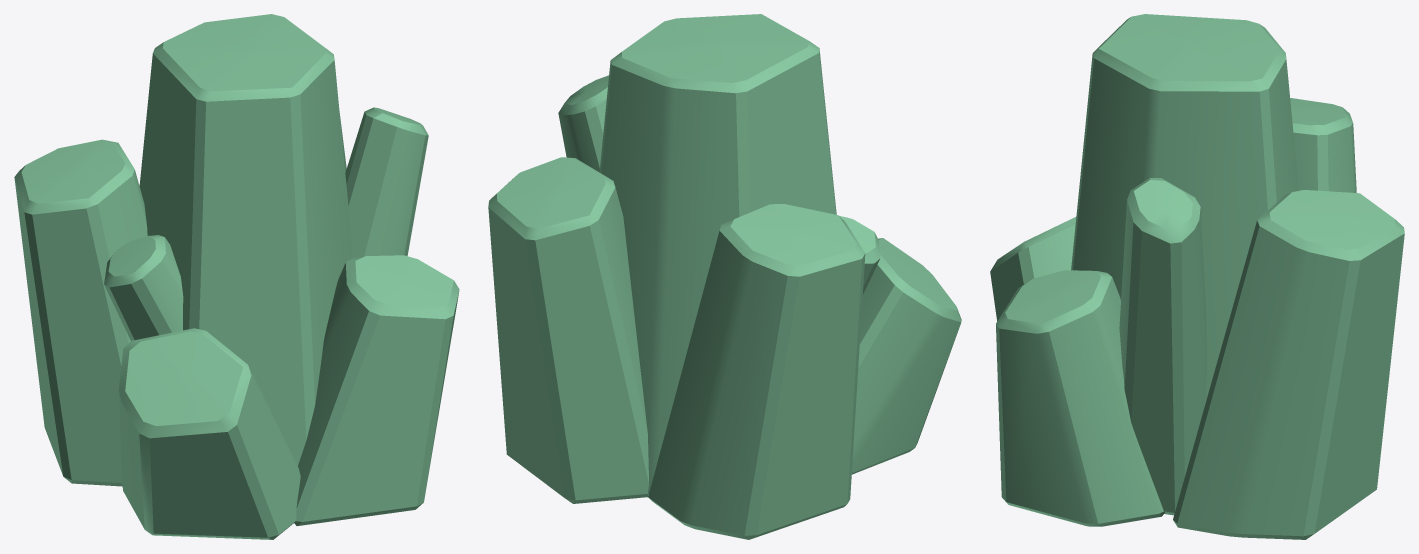
File: yushi.glb
3 renders of one model, left to right at view 1: azimuth 30°, elevation 25°; view 2: azimuth 150°, elevation 25°; view 3: azimuth 270°, elevation 25°, orthographic. The views are drawn at different scales.
Visible parts, largest first — view 1: Crystal_Big; view 2: Crystal_Big; view 3: Crystal_Big.
Part boxes in pixels (left/top/right/bottom): Crystal_Big: left=14, top=14, right=459, bottom=539; Crystal_Big: left=488, top=14, right=961, bottom=539; Crystal_Big: left=990, top=14, right=1404, bottom=539.
Size of the model in its own units: 0.8919 by 1 by 0.8956.
